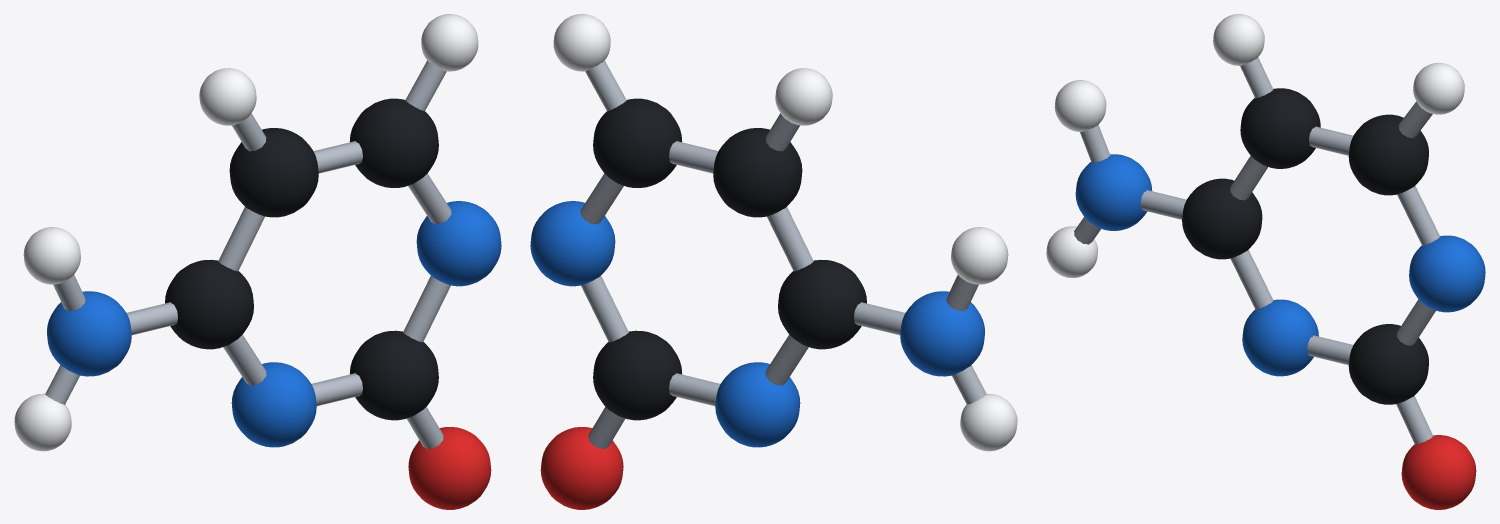
File: citozine.glb
The picture shows the model from 3 angles, left to right: view 1: azimuth 30°, elevation 25°; view 2: azimuth 150°, elevation 25°; view 3: azimuth 330°, elevation 25°; orthographic projection. The views are drawn at different scales.
Visible parts, largest first — view 1: Baza_C; view 2: Baza_C; view 3: Baza_C.
Boxes of the visible parts, box(x1,y1,x2,y2) form: Baza_C: box(14, 14, 501, 509); Baza_C: box(530, 14, 1017, 509); Baza_C: box(1046, 14, 1485, 509).
Size of the model in its own units: 1.81 by 1.77 by 0.294.
